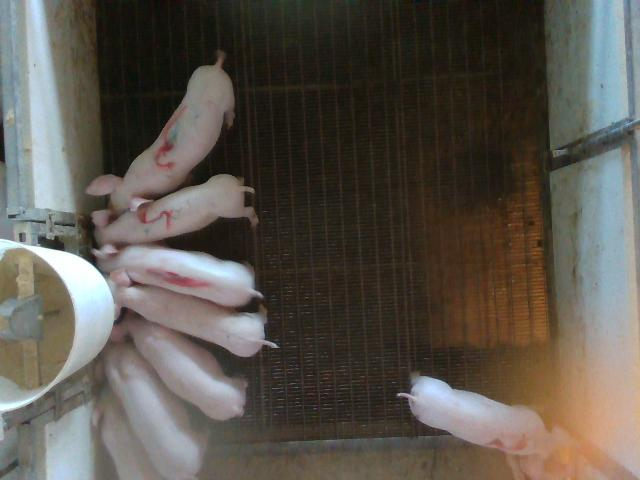pig-1: (95, 245, 262, 307)
pig-2: (399, 375, 574, 478)
pig-3: (86, 51, 234, 212)
pig-5: (92, 174, 258, 257)
